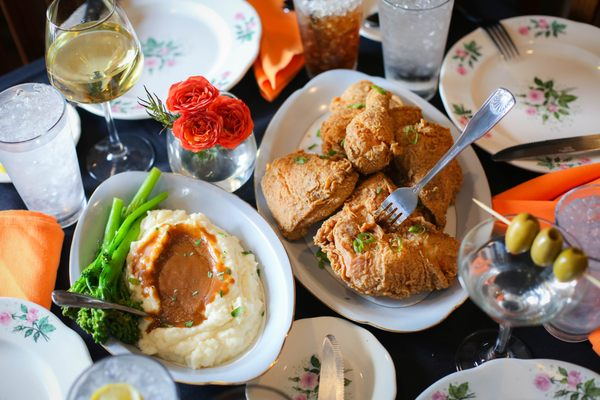salad: (374, 87, 516, 230)
sushi: (56, 167, 296, 389), (417, 356, 600, 399), (66, 354, 180, 399)
